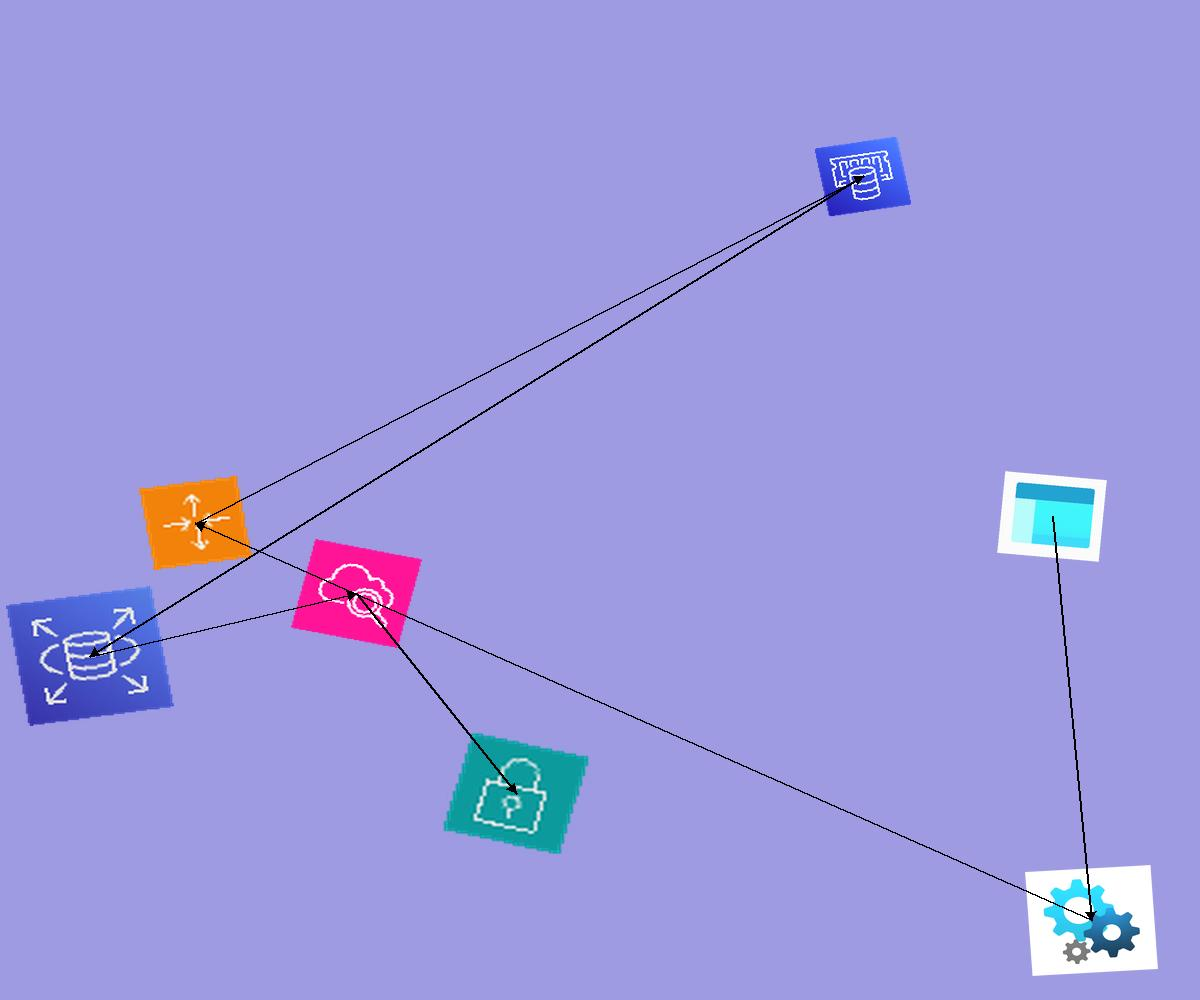AWS-CloudWatch: (291, 539, 422, 648)
AWS-ElastiCache: (814, 136, 912, 217)
AWS-Private-subnet: (441, 731, 591, 856)
AWS-RDS: (6, 586, 174, 726)
AWS-Scaling-group: (139, 476, 252, 570)
Azure_api: (1025, 865, 1158, 976)
Azure_management-portal: (997, 471, 1107, 562)
